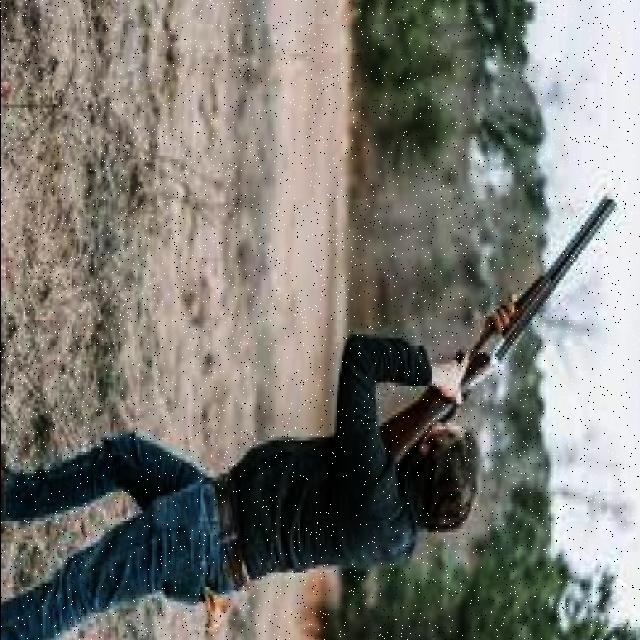Rifle: (375, 197, 615, 465)
